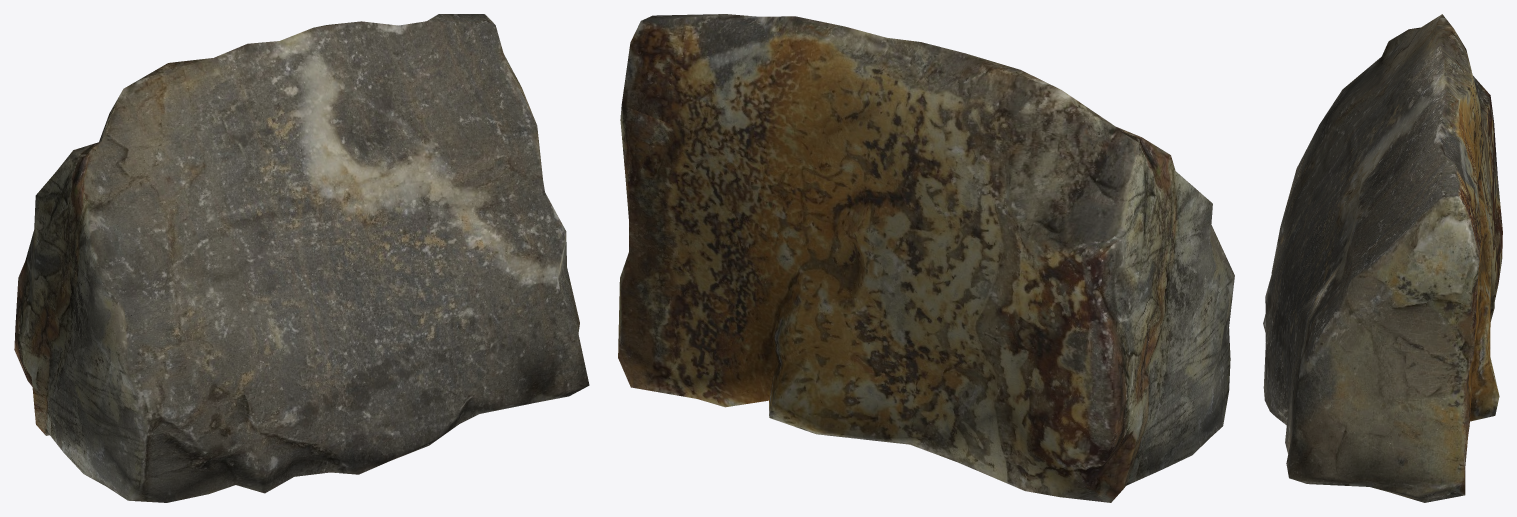
Rendered from RocaA.fbx.
3 views of the same model, side by side, from view 1: azimuth 30°, elevation 25°; view 2: azimuth 150°, elevation 25°; view 3: azimuth 270°, elevation 25° (orthographic). The views are drawn at different scales.
Visible parts, largest first — view 1: RocaA; view 2: RocaA; view 3: RocaA.
Part boxes in pixels (left/top/right/bottom): RocaA: left=14, top=14, right=589, bottom=502; RocaA: left=618, top=14, right=1234, bottom=502; RocaA: left=1263, top=14, right=1502, bottom=502.
Size of the model in its own units: 40.41 by 29.98 by 19.7.
Materials: 1 (1 with a texture image).
